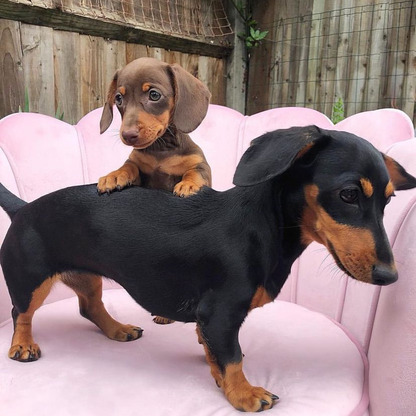dachshund: (238, 113, 410, 326), (87, 67, 225, 207)
